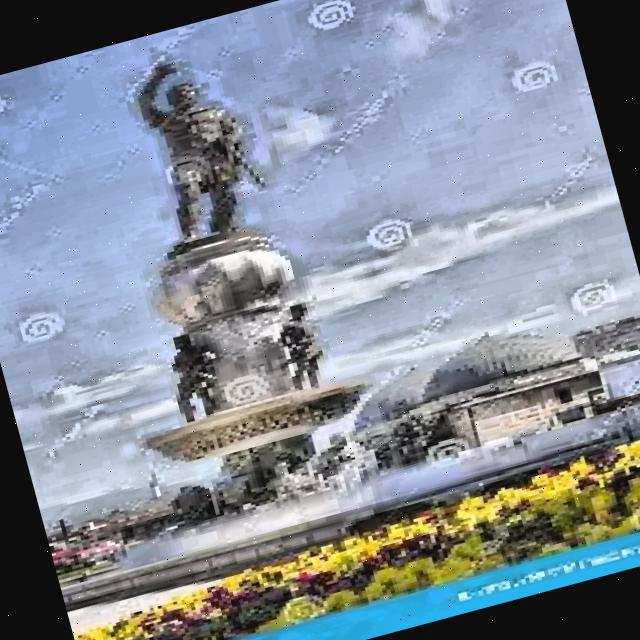Philip II of Macedonia: (41, 34, 399, 580)
